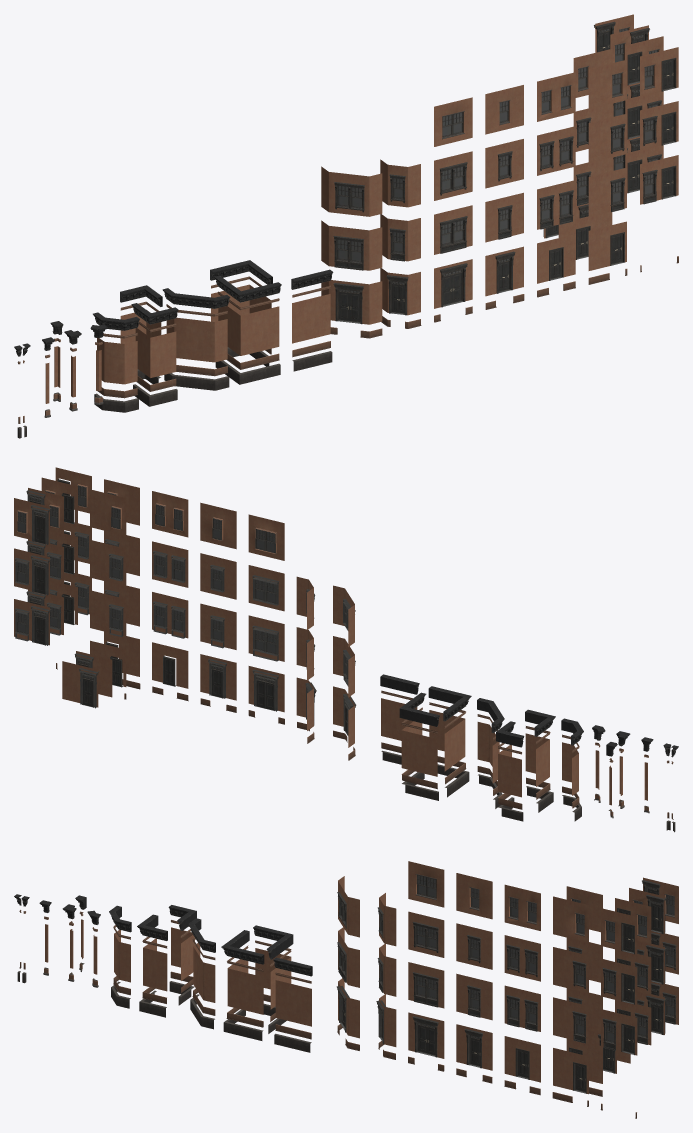
The model's file is modular_urban_apartments_facade.glb.
The picture shows the model from 3 angles, top to bottom: view 1: azimuth 30°, elevation 25°; view 2: azimuth 150°, elevation 25°; view 3: azimuth 330°, elevation 25°; orthographic projection. The views are drawn at different scales.
Parts seen in each view (by area): view 1: wall_standard_corner_large_01, wall_standard_angled_large_01, wall_window_angled_large_02, wall_window_angled_large_01, wall_standard_corner_small_01, wall_standard_standard_01, wall_standard_angled_small_01, wall_window_offset_small_05, wall_window_centered_small_03, wall_window_centered_small_02, wall_door_angled_large_01, wall_window_angled_small_02 (+38 smaller); view 2: wall_standard_corner_large_02, wall_standard_corner_large_01, wall_window_offset_small_06, wall_window_centered_small_03, wall_window_centered_small_02, wall_window_offset_small_04, wall_window_centered_small_01, wall_window_offset_small_02, wall_window_centered_double_03, wall_door_centered_small_02, door_window_small_04, wall_window_centered_large_03 (+39 smaller); view 3: wall_standard_corner_large_01, wall_standard_standard_01, wall_window_centered_small_03, wall_window_offset_small_05, wall_window_centered_small_02, wall_window_offset_small_03, wall_window_centered_small_01, wall_window_centered_double_03, wall_door_centered_small_02, wall_standard_corner_small_01, wall_window_offset_small_01, wall_window_centered_large_03 (+58 smaller).
Boxes of the visible parts, x1=… form: wall_standard_corner_large_01: x1=218, y1=306, x2=279, y2=355; wall_standard_angled_large_01: x1=166, y1=317, x2=227, y2=362; wall_window_angled_large_02: x1=321, y1=166, x2=382, y2=216; wall_window_angled_large_01: x1=321, y1=220, x2=382, y2=270; wall_standard_corner_small_01: x1=135, y1=328, x2=176, y2=377; wall_standard_standard_01: x1=292, y1=294, x2=330, y2=343; wall_standard_angled_small_01: x1=97, y1=338, x2=137, y2=384; wall_window_offset_small_05: x1=588, y1=59, x2=626, y2=109; wall_window_centered_small_03: x1=485, y1=85, x2=523, y2=134; wall_window_centered_small_02: x1=485, y1=139, x2=523, y2=188; wall_door_angled_large_01: x1=321, y1=280, x2=382, y2=324; wall_window_angled_small_02: x1=380, y1=159, x2=420, y2=207; wall_standard_corner_large_02: x1=401, y1=721, x2=437, y2=776; wall_standard_corner_large_01: x1=429, y1=710, x2=465, y2=771; wall_window_offset_small_06: x1=90, y1=489, x2=126, y2=535; wall_window_centered_small_03: x1=200, y1=502, x2=236, y2=549; wall_window_centered_small_02: x1=200, y1=553, x2=236, y2=599; wall_window_offset_small_04: x1=90, y1=540, x2=126, y2=586; wall_window_centered_small_01: x1=200, y1=603, x2=236, y2=649; wall_window_offset_small_02: x1=90, y1=590, x2=126, y2=636; wall_window_centered_double_03: x1=152, y1=491, x2=188, y2=537; wall_door_centered_small_02: x1=152, y1=642, x2=188, y2=688; door_window_small_04: x1=14, y1=605, x2=51, y2=645; wall_window_centered_large_03: x1=248, y1=514, x2=284, y2=560; wall_standard_corner_large_01: x1=227, y1=959, x2=263, y2=1014; wall_standard_standard_01: x1=275, y1=980, x2=311, y2=1026; wall_window_centered_small_03: x1=456, y1=873, x2=492, y2=919; wall_window_offset_small_05: x1=553, y1=896, x2=588, y2=942; wall_window_centered_small_02: x1=456, y1=923, x2=492, y2=969; wall_window_offset_small_03: x1=553, y1=947, x2=588, y2=993; wall_window_centered_small_01: x1=456, y1=973, x2=492, y2=1020; wall_window_centered_double_03: x1=504, y1=884, x2=540, y2=930; wall_door_centered_small_02: x1=504, y1=1036, x2=540, y2=1082; wall_standard_corner_small_01: x1=143, y1=938, x2=167, y2=991; wall_window_offset_small_01: x1=553, y1=997, x2=588, y2=1043; wall_window_centered_large_03: x1=408, y1=861, x2=444, y2=907.
Bounding box in the file's own units: 51.53 × 17 × 6.67.
Materials: 5 (5 with a texture image).
